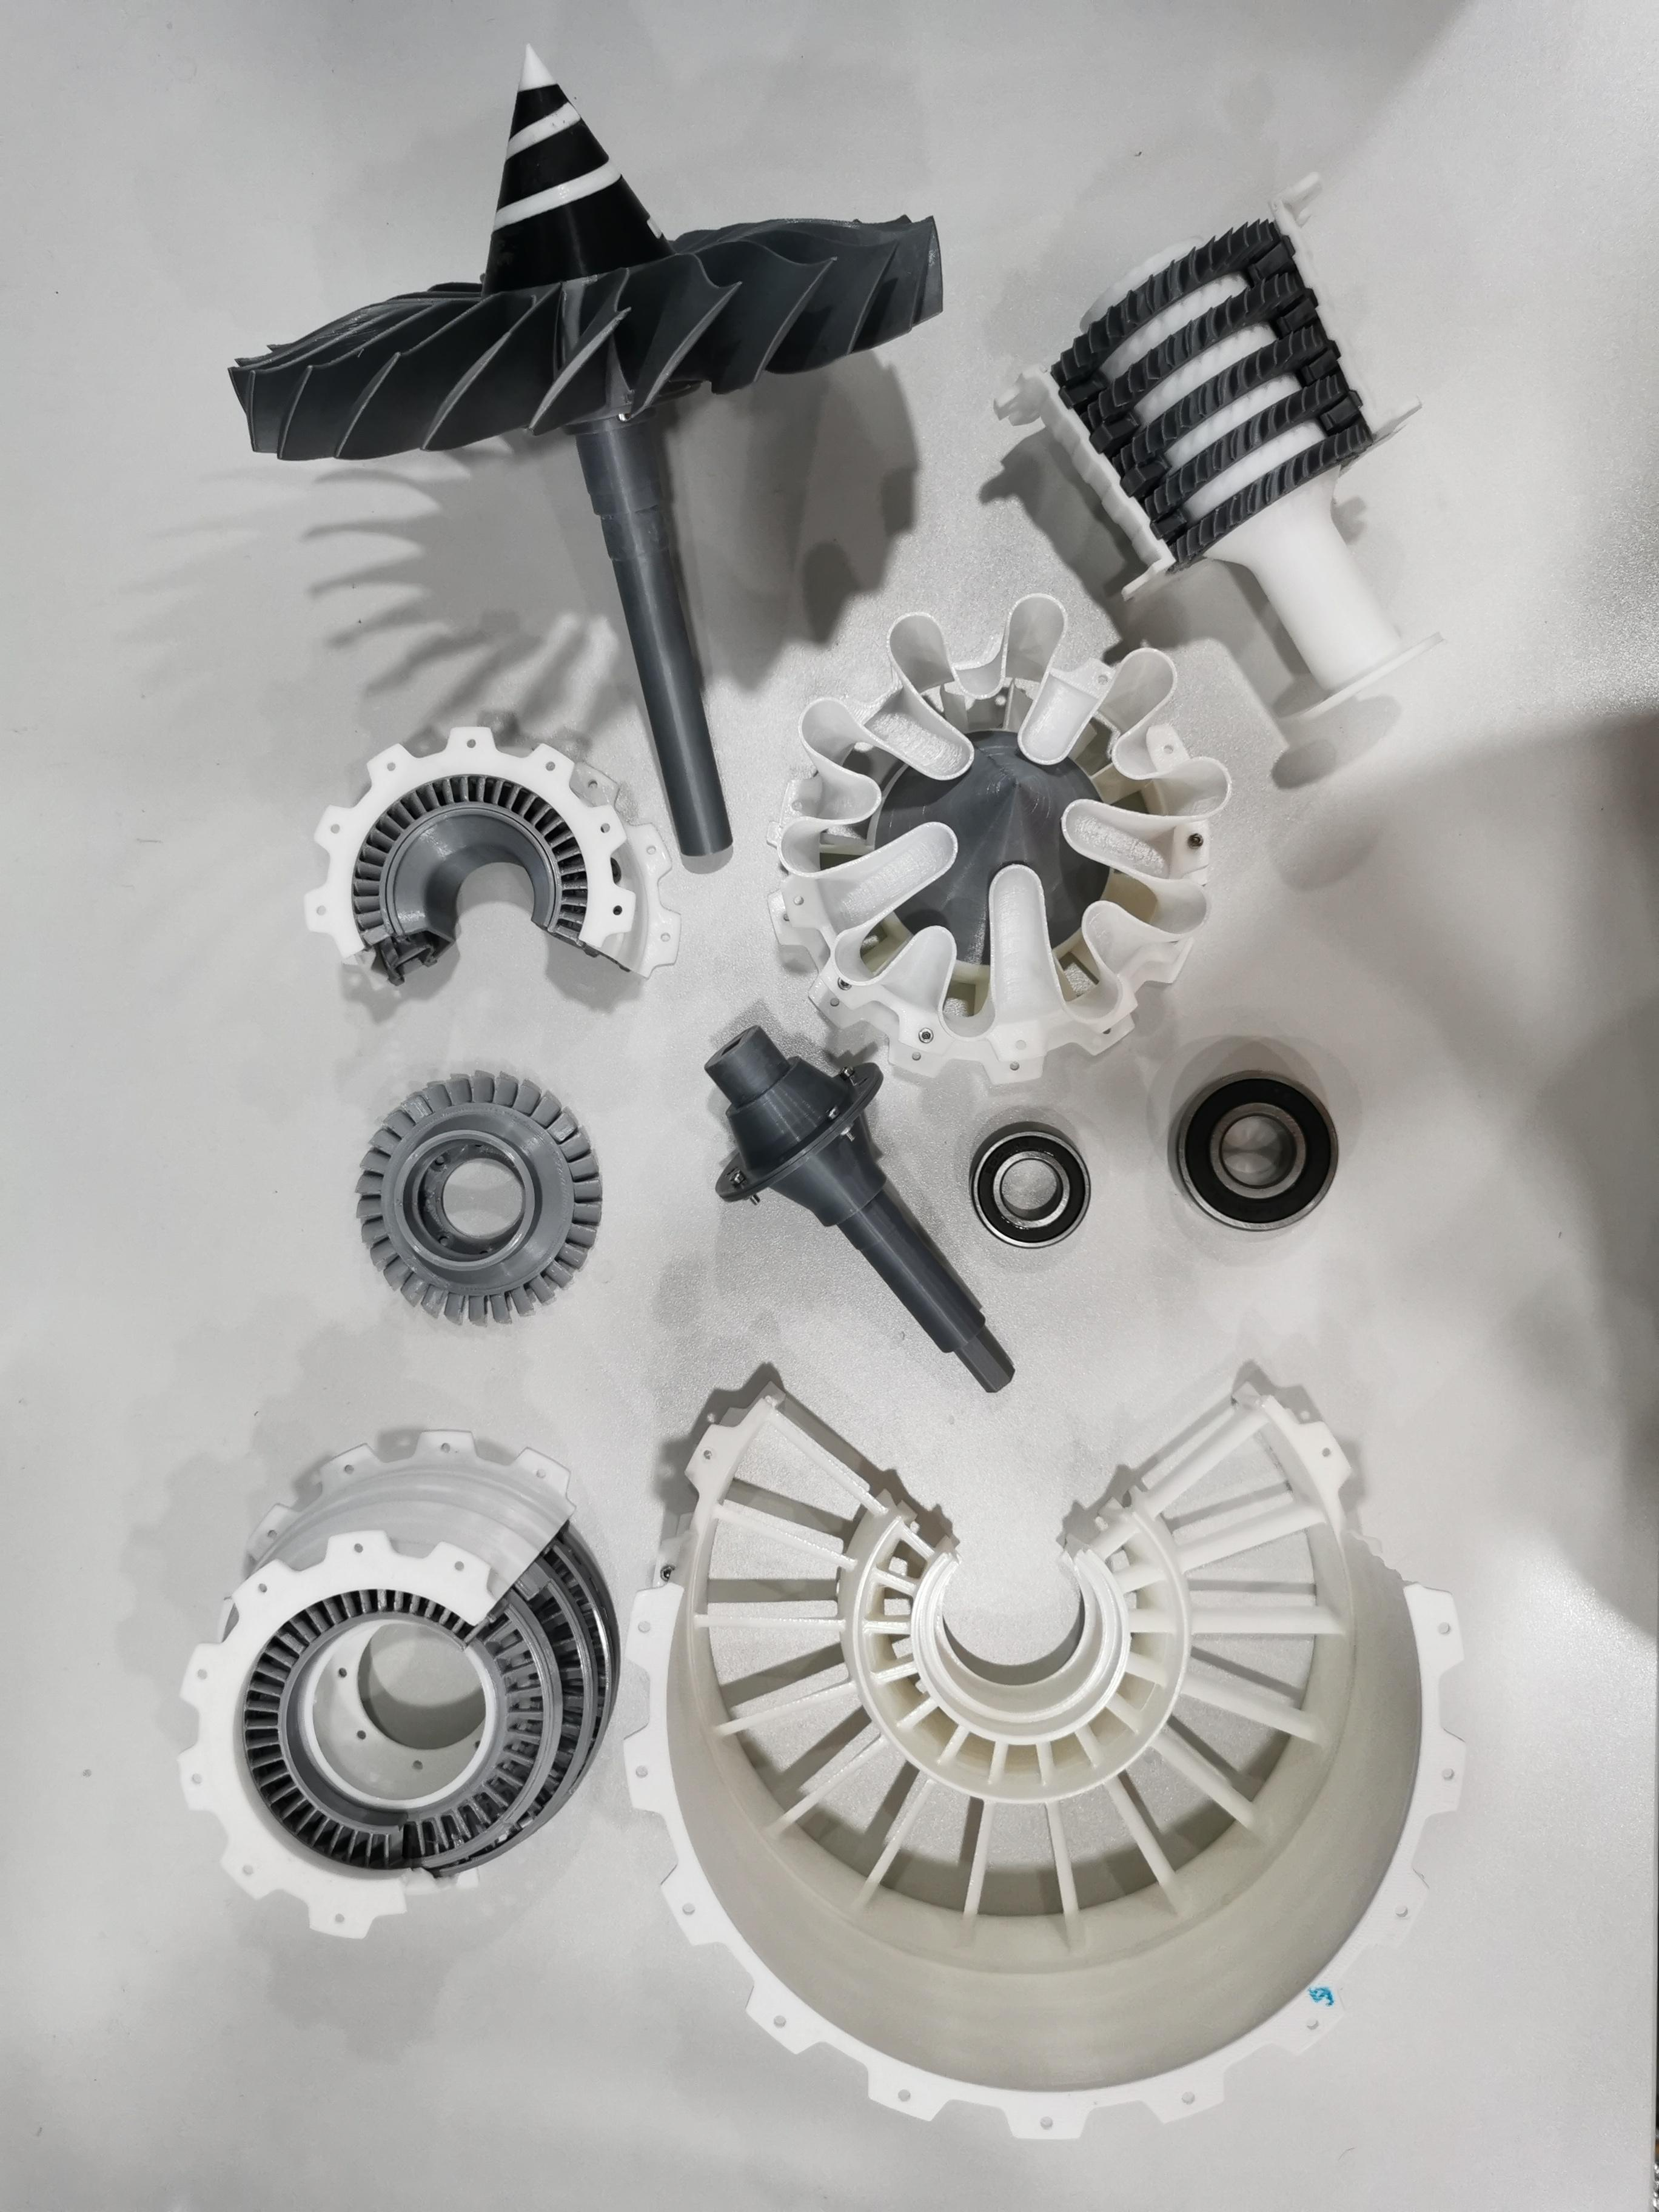Bearing-6003: (943, 1099, 1103, 1256)
Bearing-6204: (1150, 1043, 1370, 1264)
Combustion Section: (282, 693, 683, 1031)
Fan Casing and Support: (617, 1366, 1485, 2158)
Fan and Low Pressure Shaft: (213, 31, 957, 864)
HPT Section: (319, 1049, 629, 1346)
High Pressure Spool: (974, 158, 1446, 740)
LPT Section: (141, 1411, 627, 1947)
Low Pressure Spool: (676, 1019, 1018, 1404)
Nozzle Section: (760, 589, 1230, 1089)
